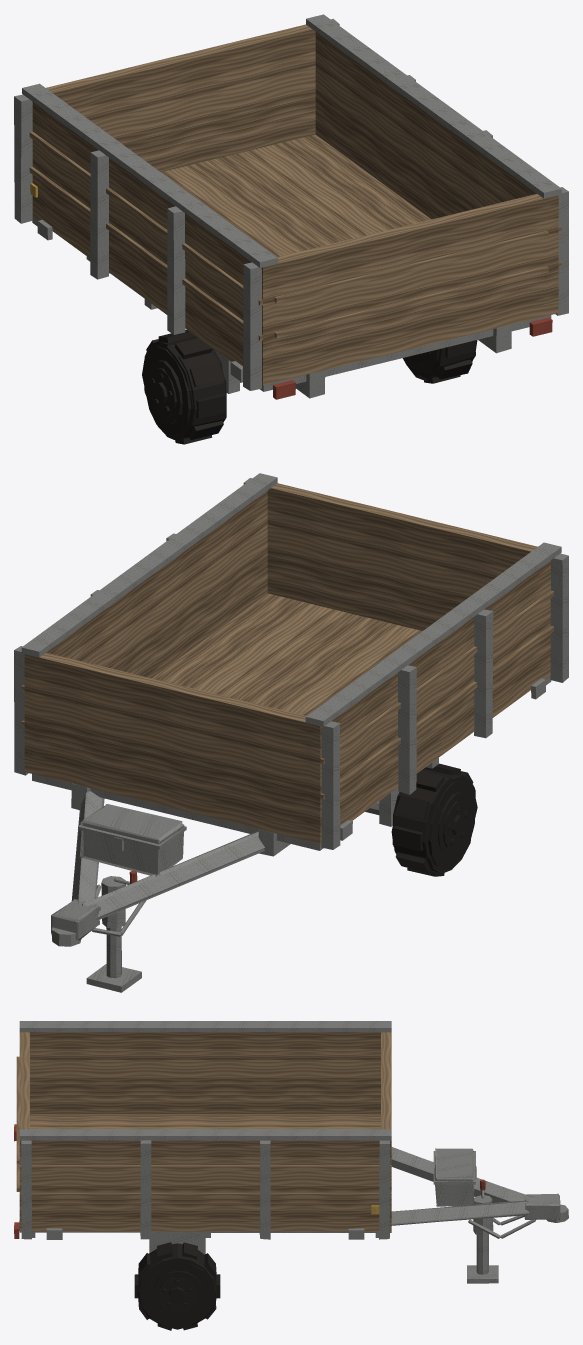
The model's file is small_trailer.glb.
The picture shows the model from 3 angles, top to bottom: view 1: azimuth 30°, elevation 25°; view 2: azimuth 150°, elevation 25°; view 3: azimuth 270°, elevation 25°; orthographic projection. The views are drawn at different scales.
Visible parts, largest first — view 1: SmallTrailer, Tailgate, Wheel_L1, Wheel_R1; view 2: SmallTrailer, Tailgate, Wheel_L1, Coupler; view 3: SmallTrailer, Wheel_R1, Tailgate, Coupler.
Part boxes in pixels (x1,y1,x2,y2): SmallTrailer: [14, 14, 568, 399]; Tailgate: [274, 194, 546, 369]; Wheel_L1: [142, 329, 226, 444]; Wheel_R1: [402, 340, 477, 383]; SmallTrailer: [14, 473, 568, 992]; Tailgate: [267, 483, 537, 630]; Wheel_L1: [391, 763, 477, 876]; Coupler: [51, 899, 100, 946]; SmallTrailer: [14, 1021, 535, 1283]; Wheel_R1: [134, 1242, 220, 1330]; Tailgate: [19, 1032, 29, 1129]; Coupler: [524, 1193, 568, 1222].
Bounding box in the file's own units: 2.3 × 1.76 × 4.43.
5 materials, 4 textured.
